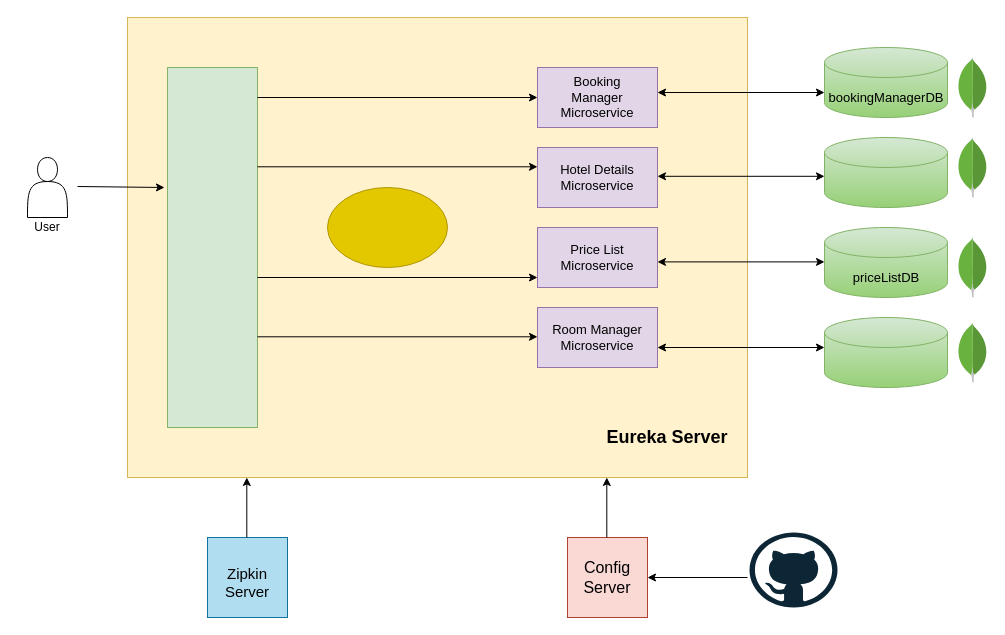
Image size: 1005x635. Some labels were removed from this diagram. The shapes that lost their labels are listed below. From the top down, each one's centre as x and y in pixels, then its label:
At (x=886, y=172): "hotelDetailsDB".
At (x=212, y=247): "API Gateway".
At (x=387, y=227): "Hystrix Dashboard".
At (x=886, y=352): "roomManagerDB".
